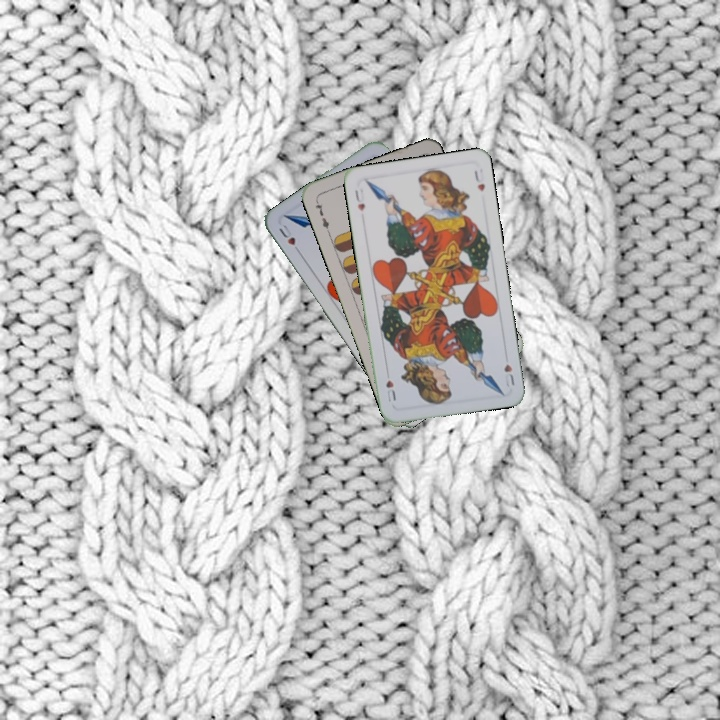E7: (311, 196, 332, 235)
HU: (275, 220, 304, 256), (500, 360, 517, 389), (351, 185, 367, 214)
